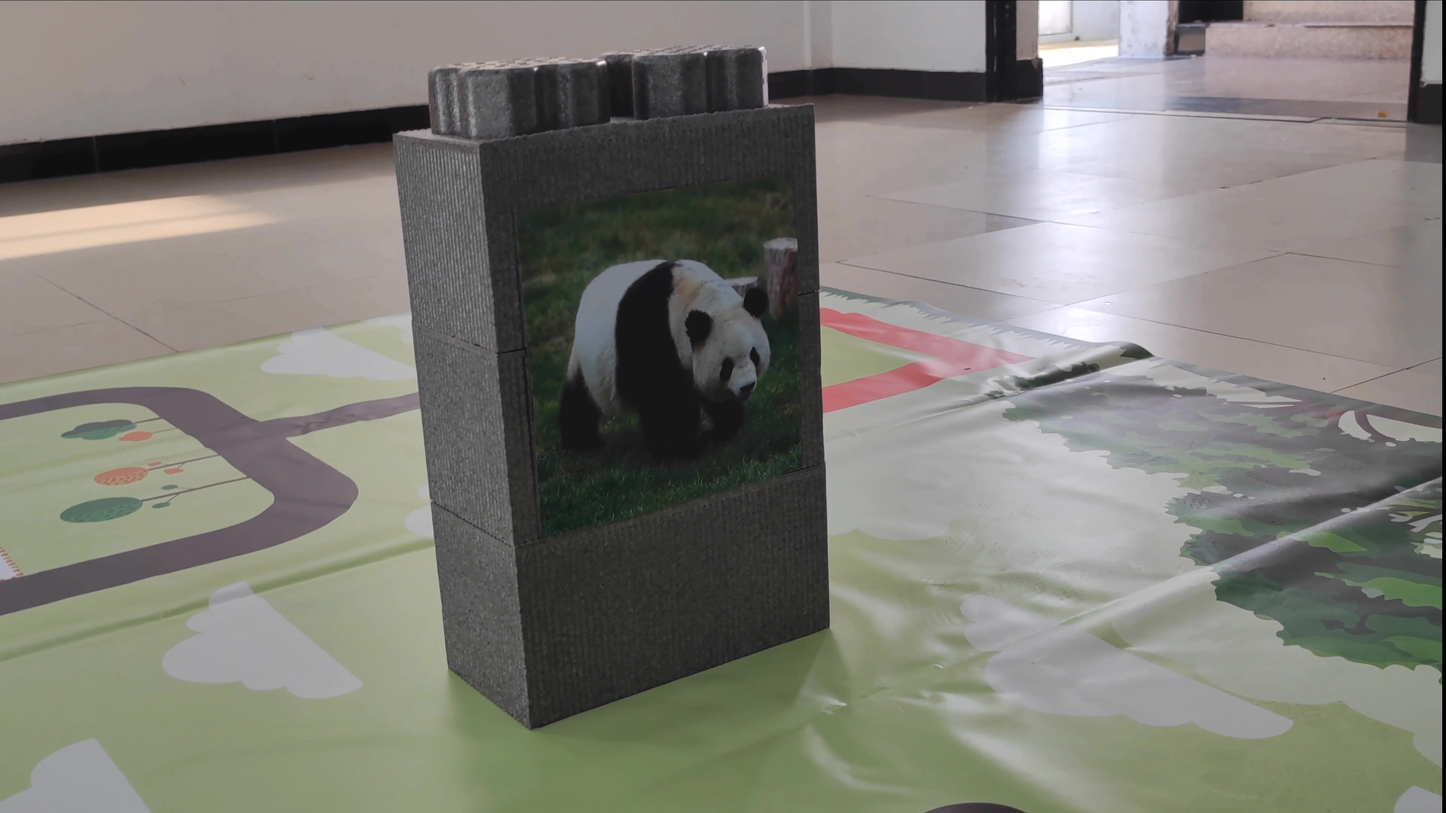panda: (545, 226, 797, 453)
